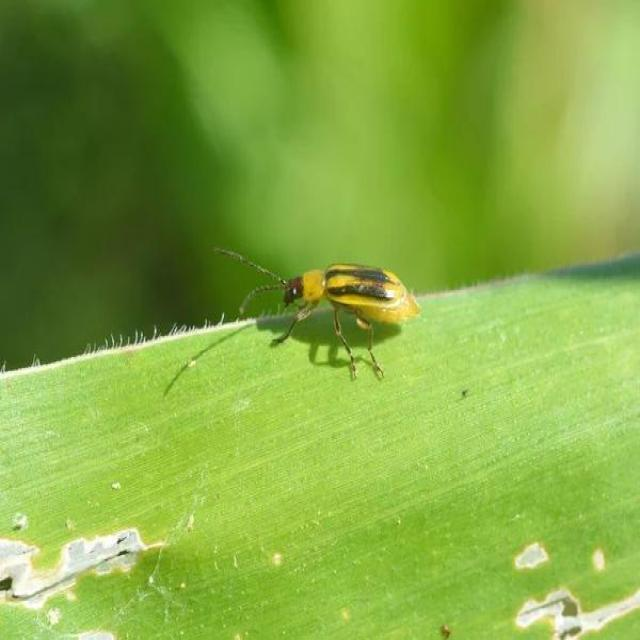trips: (214, 233, 447, 362)
